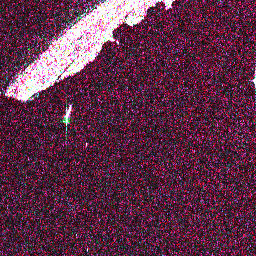ship: (59, 101, 74, 125)
